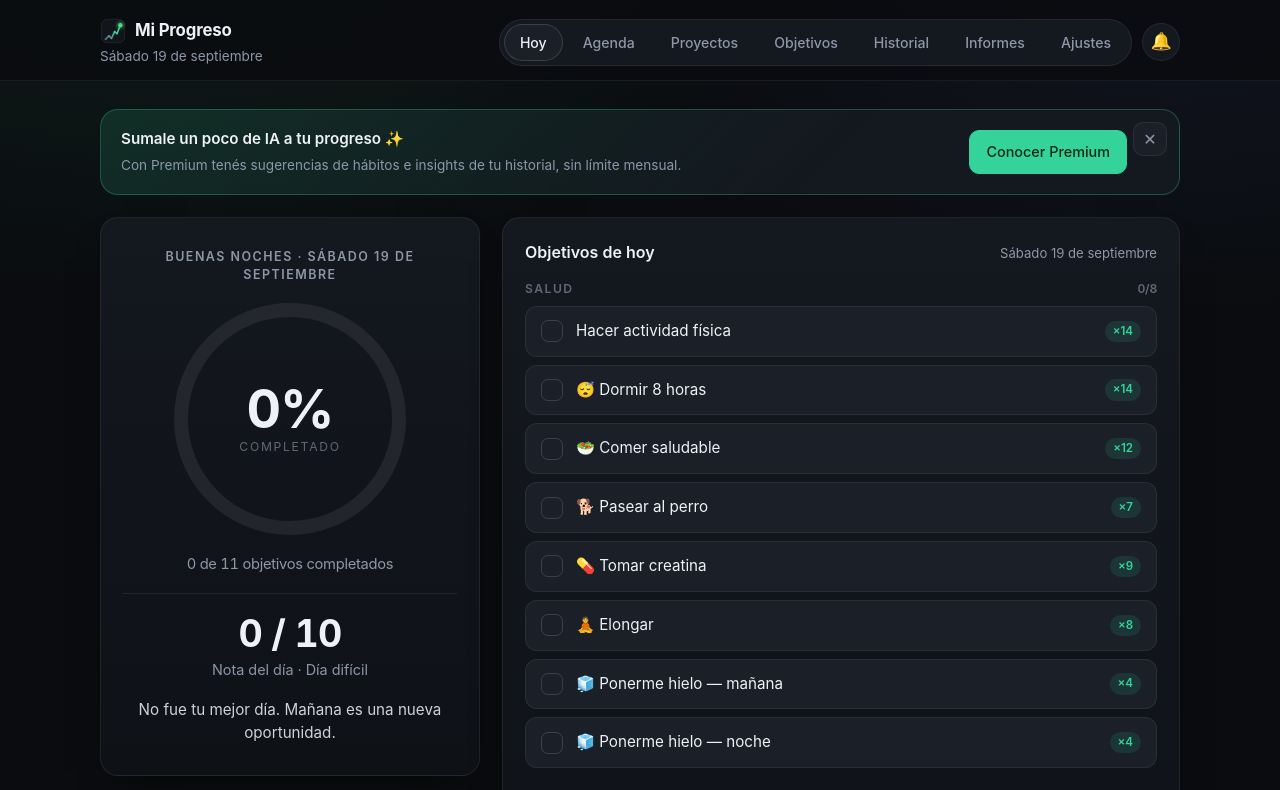
it: Mi Progreso › Free por encima del límite de objetivos diarios: no rompe nada, pero no deja agregar y ofrece Premium
Expected: the heading "Objetivos de hoy" is shown, top-left (525, 240), bottom-right (655, 264)
Expected: the checkbox labelled "Hacer actividad física ×14" is shown, top-left (525, 306), bottom-right (1157, 357)
Click the button "Objetivos": {"x": 806, "y": 42} top-left (758, 24), bottom-right (854, 61)
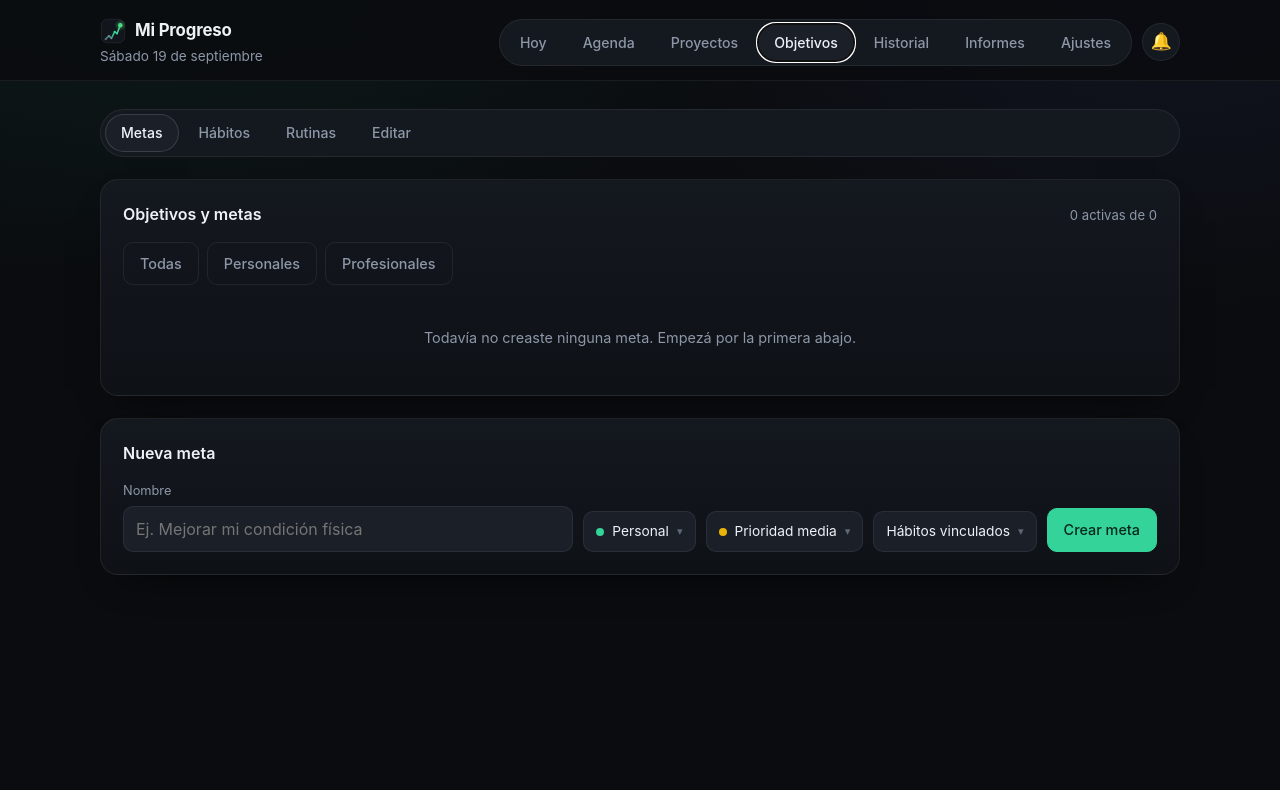
Click the button "Editar": {"x": 392, "y": 133} top-left (356, 114), bottom-right (427, 152)
(page scrolled)
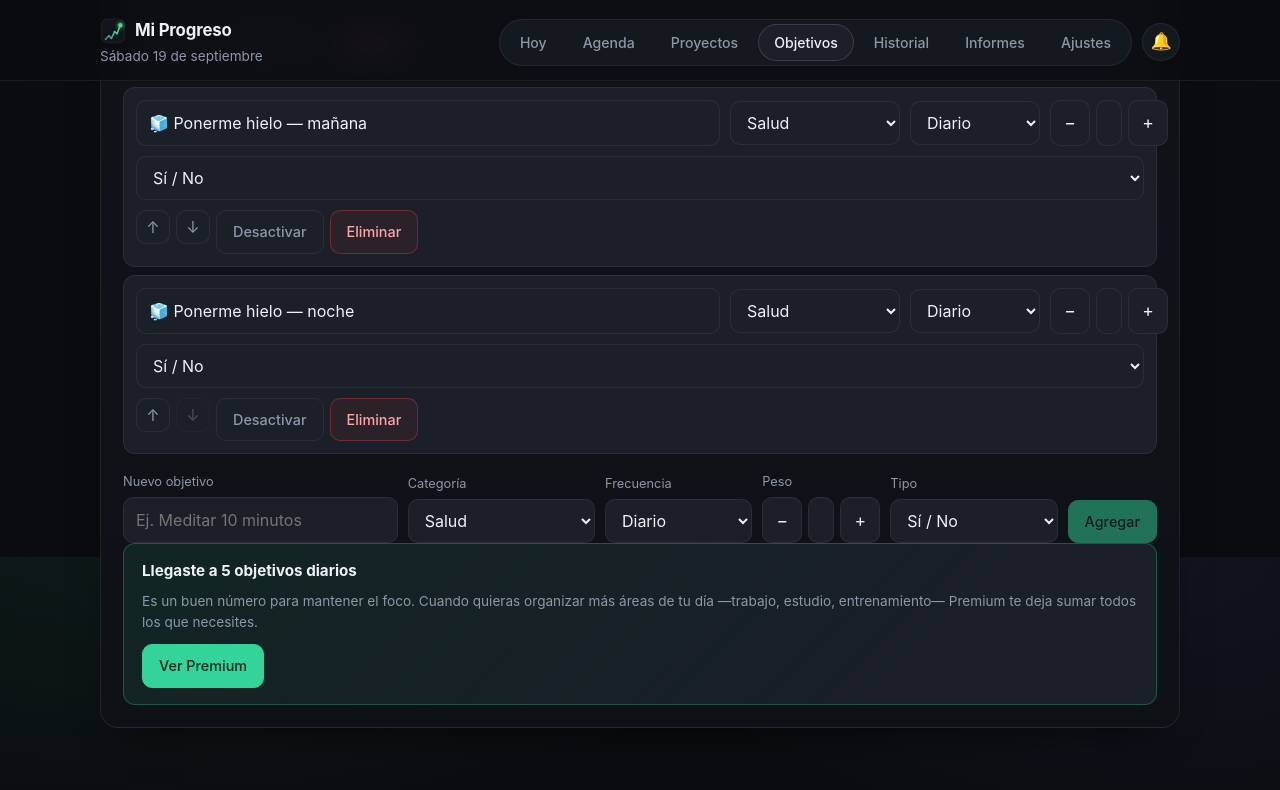
Expected: the text "Llegaste a 5 objetivos diarios" is shown, top-left (142, 560), bottom-right (357, 583)
Expected: the button "Agregar" is disabled, top-left (1068, 500), bottom-right (1157, 543)
